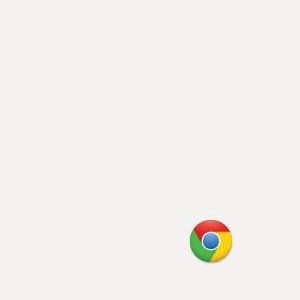chrome: (189, 219, 233, 263)
